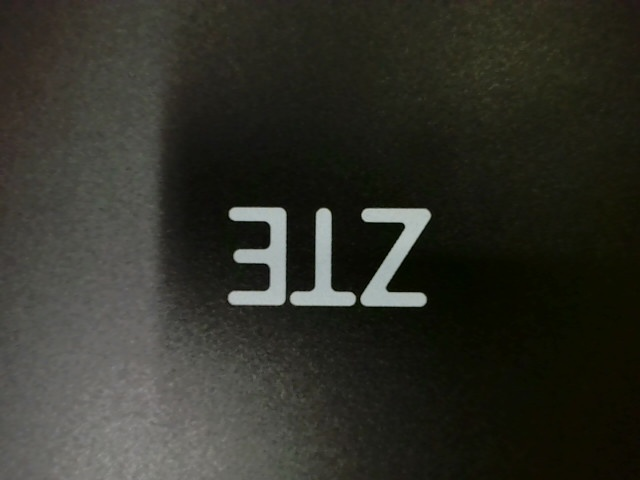AN_ZTE: (211, 200, 445, 318)
